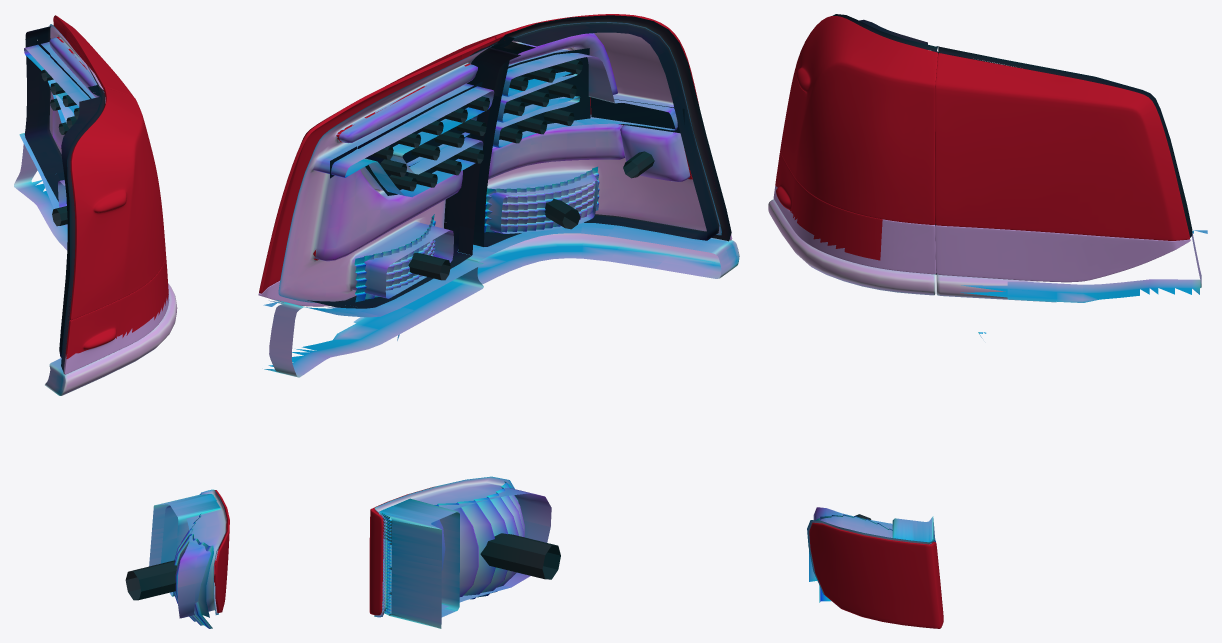
The model's file is lamp_rear_L.glb.
3 renders of one model, left to right at view 1: azimuth 30°, elevation 25°; view 2: azimuth 150°, elevation 25°; view 3: azimuth 270°, elevation 25°, orthographic. The views are drawn at different scales.
Parts seen in each view (by area): view 1: redglass_25, chrome_4, black_12, clearglass_27, chrome_2, chrome_1, black_11; view 2: chrome_2, chrome_4, black_12, chrome_1, redglass_25, black_11; view 3: redglass_25, clearglass_27, chrome_4, black_12, chrome_1.
Boxes of the visible parts, box(x1,y1,x2,y2) form: redglass_25: box(53, 15, 229, 612); chrome_4: box(14, 133, 226, 628); black_12: box(24, 26, 176, 600); clearglass_27: box(63, 252, 168, 374); chrome_2: box(24, 24, 105, 207); chrome_1: box(149, 494, 221, 596); black_11: box(41, 69, 79, 134); chrome_2: box(278, 22, 721, 302); chrome_4: box(263, 222, 739, 617); black_12: box(307, 15, 731, 579); chrome_1: box(354, 166, 599, 628); redglass_25: box(259, 14, 698, 615); black_11: box(370, 59, 582, 191); redglass_25: box(780, 16, 1189, 628); clearglass_27: box(773, 153, 1190, 282); chrome_4: box(768, 199, 1207, 607); black_12: box(832, 14, 1192, 519); chrome_1: box(892, 516, 935, 543).
Size of the model in its own units: 0.3049 by 0.6449 by 0.4851.
